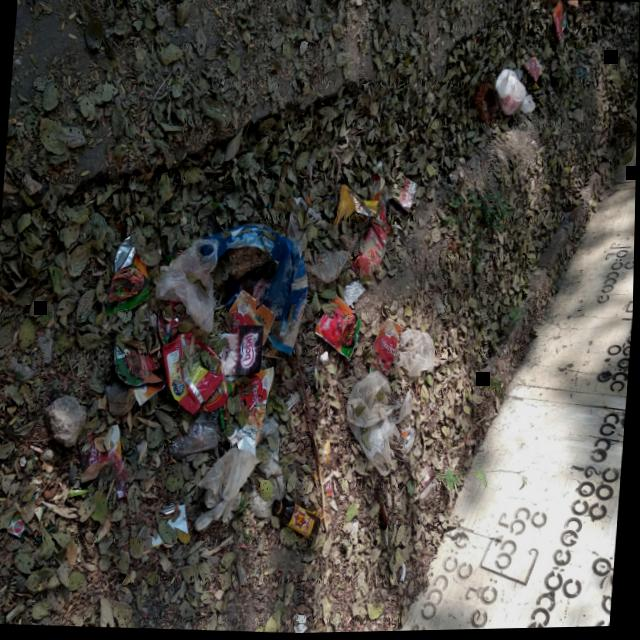Crisp packet: (163, 334, 223, 416), (196, 338, 230, 413)
Other plastic: (114, 301, 184, 407), (228, 368, 274, 447), (107, 235, 149, 316), (315, 297, 362, 364), (352, 203, 392, 279), (223, 291, 277, 347), (217, 327, 265, 376), (370, 319, 405, 379), (332, 186, 378, 230), (82, 427, 123, 470), (150, 505, 190, 549), (359, 173, 385, 224), (315, 441, 334, 499), (222, 280, 256, 309), (393, 178, 417, 213), (552, 2, 566, 42), (523, 59, 543, 87), (7, 512, 28, 538), (421, 466, 437, 499), (261, 418, 280, 437), (239, 438, 257, 458), (286, 392, 302, 413), (567, 3, 577, 16)
Other plastic container: (274, 500, 322, 542)
Plastic film: (203, 225, 309, 357), (346, 372, 416, 479), (156, 240, 219, 333), (196, 448, 261, 531), (170, 411, 219, 461), (394, 331, 436, 379), (252, 462, 287, 519), (495, 71, 535, 118), (286, 199, 323, 239), (306, 253, 349, 285), (105, 451, 128, 499)
Unlabeled litter: (342, 278, 367, 308)
